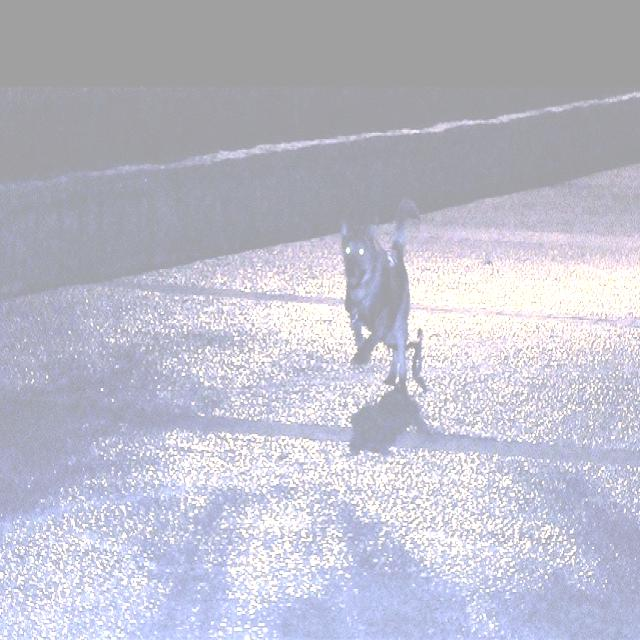Dog: (287, 232, 445, 407)
